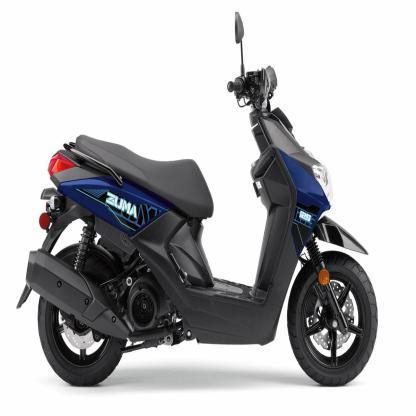Motorcycle: (21, 11, 382, 389)
